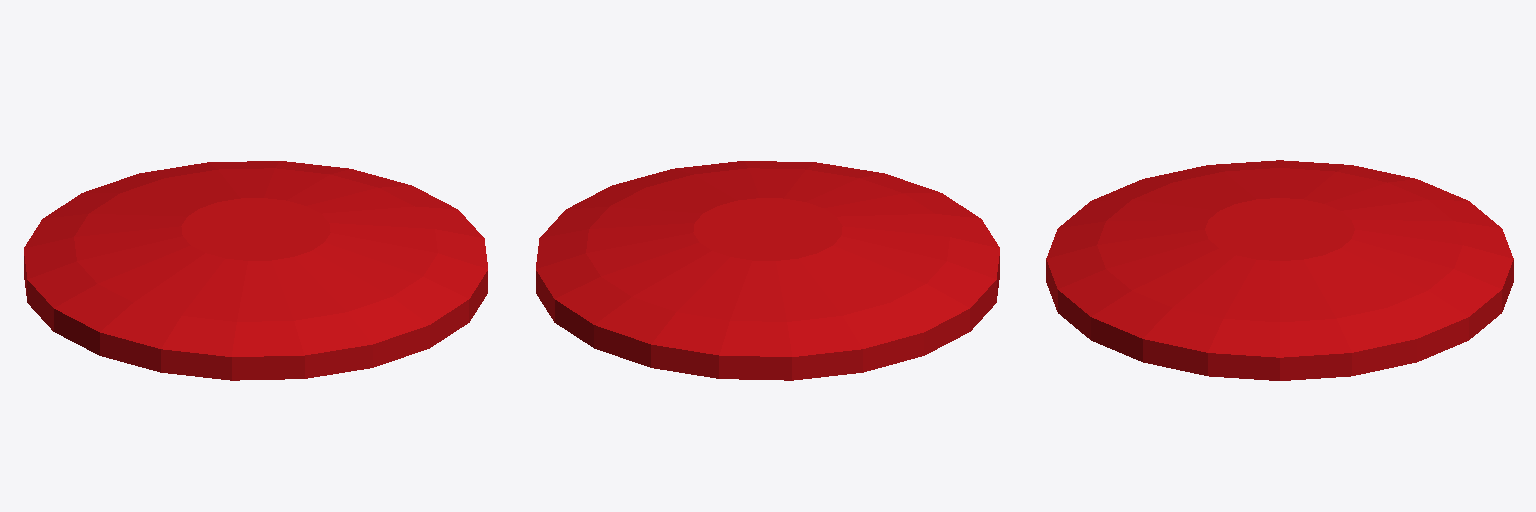
The model's file is Salami.obj.
3 renders of one model, left to right at view 1: azimuth 30°, elevation 25°; view 2: azimuth 150°, elevation 25°; view 3: azimuth 270°, elevation 25°, orthographic.
Parts seen in each view (by area): view 1: Cylinder.001; view 2: Cylinder.001; view 3: Cylinder.001.
Part boxes in pixels (left/top/right/bottom): Cylinder.001: left=24, top=161, right=487, bottom=380; Cylinder.001: left=536, top=161, right=999, bottom=380; Cylinder.001: left=1046, top=160, right=1513, bottom=380.
Bounding box in the file's own units: 0.0887 × 0.0111 × 0.0887.